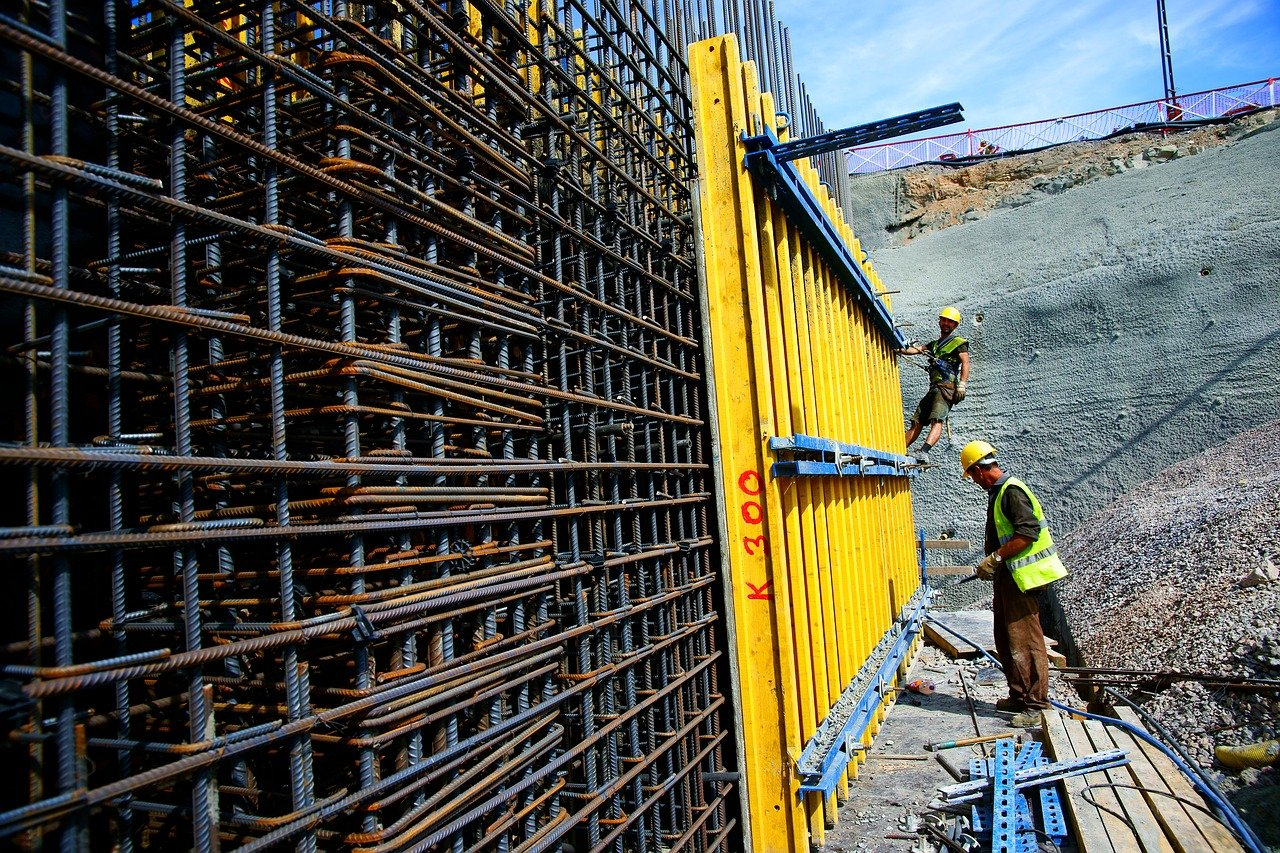Hard Hat: (957, 442, 1003, 489), (938, 307, 961, 335)
Person: (953, 442, 1074, 727), (896, 307, 970, 451)
Vest: (958, 470, 1071, 592)
